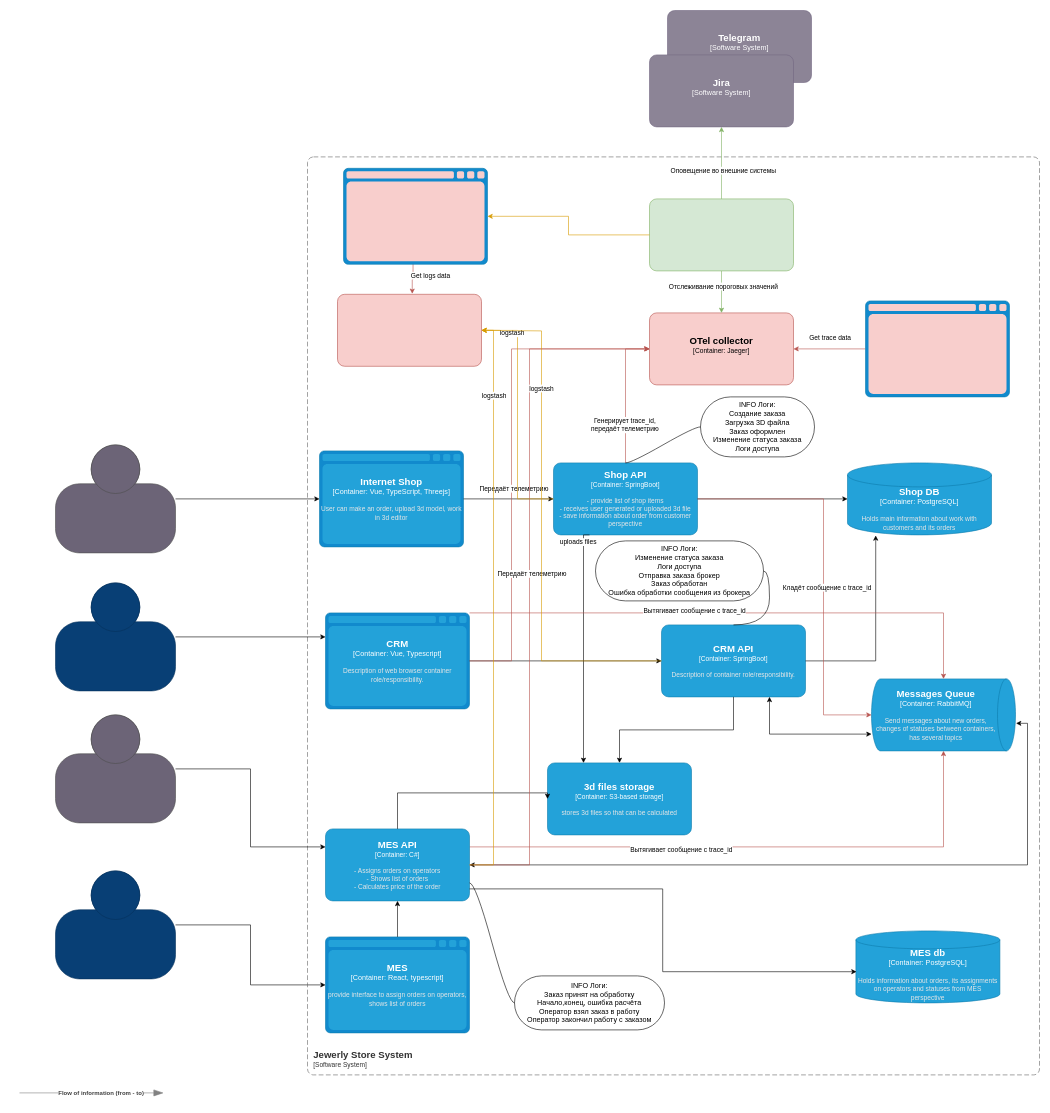
Image size: 1050x1113. Some labels were removed from this diagram. The centre of each missing label's shape, as x and y in pixels:
Alertmanager [Container: ]: point (721, 234)
API user [Person] Description of external person.: point (115, 768)
Customer [Person] Description of external person.: point (115, 498)
Grafana [Container: Grafana UI]: point (415, 216)
Jaeger UI [Container: Jaeger UI]: point (937, 348)
Logs collector [Container: Elasticsearch]: point (409, 330)
Operator [Person] Takes order in work, manufactures jewerly: point (115, 924)
Seller [Person] Operates with order, confirms manufacturing for the user: point (115, 636)
